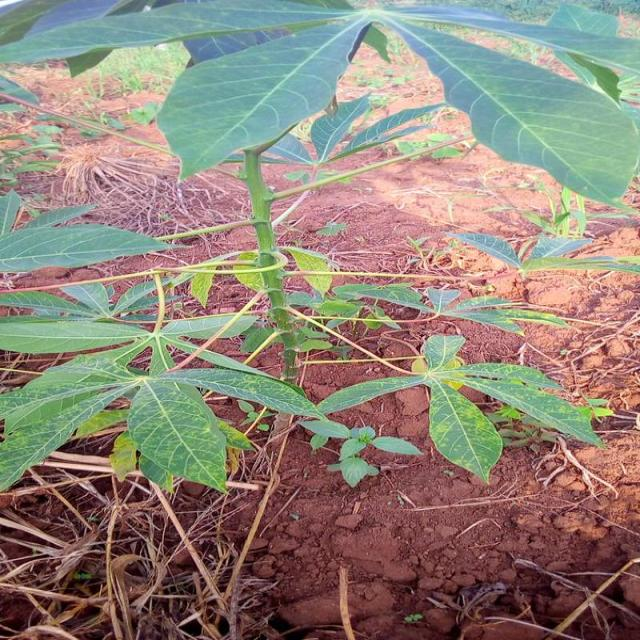cassava leaf: (154, 13, 373, 183), (126, 376, 227, 494)
